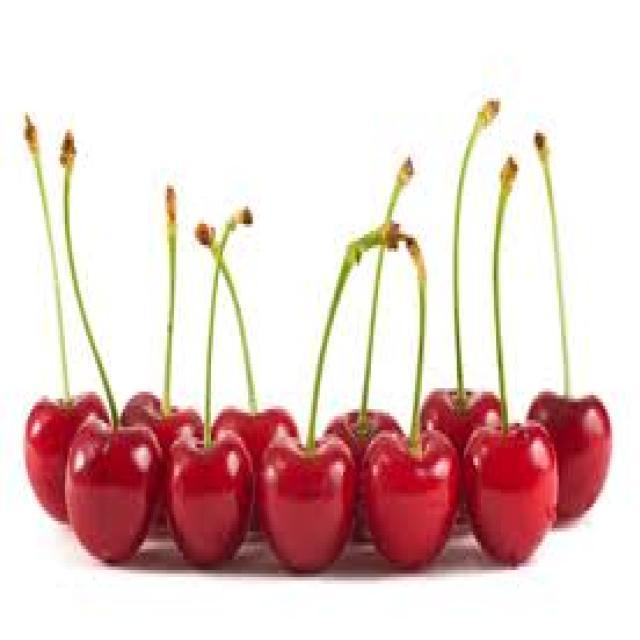Cherry: (58, 126, 160, 591), (18, 108, 114, 556), (468, 154, 562, 591), (528, 111, 620, 538), (371, 220, 468, 594), (172, 182, 262, 584), (271, 220, 364, 580)
